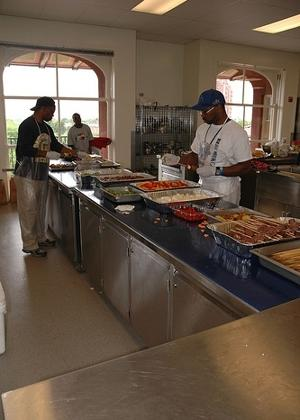person: (160, 88, 255, 208)
